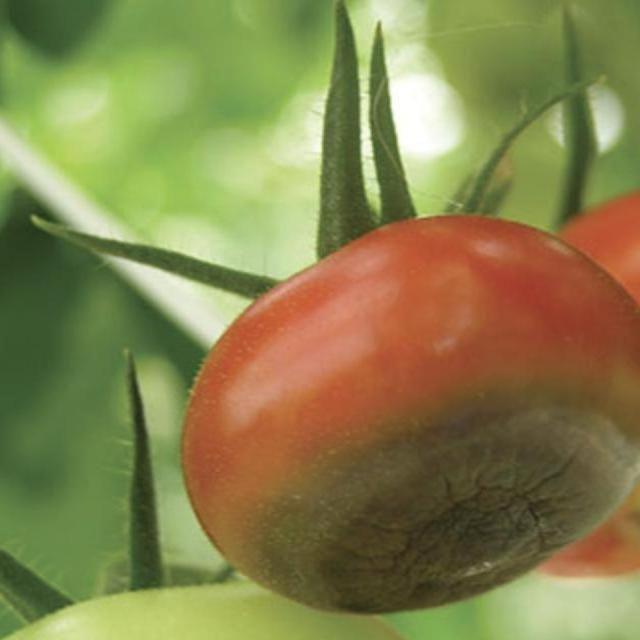Blossom End Rot Fruit: (167, 255, 426, 412)
